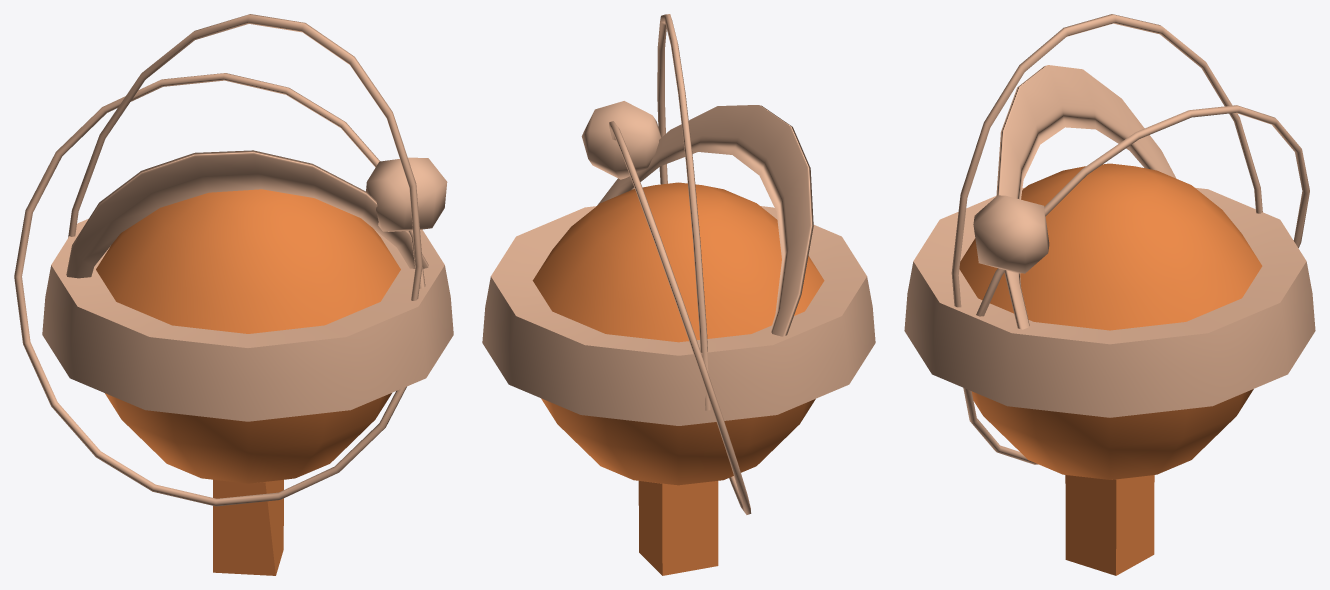
The model's file is ENV_Planet_B.fbx.
The picture shows the model from 3 angles, left to right: view 1: azimuth 30°, elevation 25°; view 2: azimuth 150°, elevation 25°; view 3: azimuth 270°, elevation 25°; orthographic projection. The views are drawn at different scales.
Parts seen in each view (by area): view 1: Planet_B_03; view 2: Planet_B_03; view 3: Planet_B_03.
Part boxes in pixels (x1,y1,x2,y2): Planet_B_03: (14, 14, 453, 575); Planet_B_03: (482, 14, 875, 575); Planet_B_03: (904, 14, 1315, 575).
Bounding box in the file's own units: 355 × 526 × 355.
